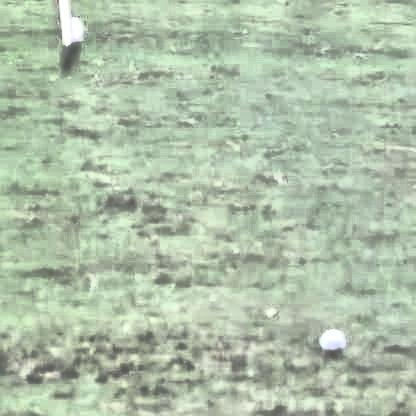golfball: (315, 326, 343, 351)
